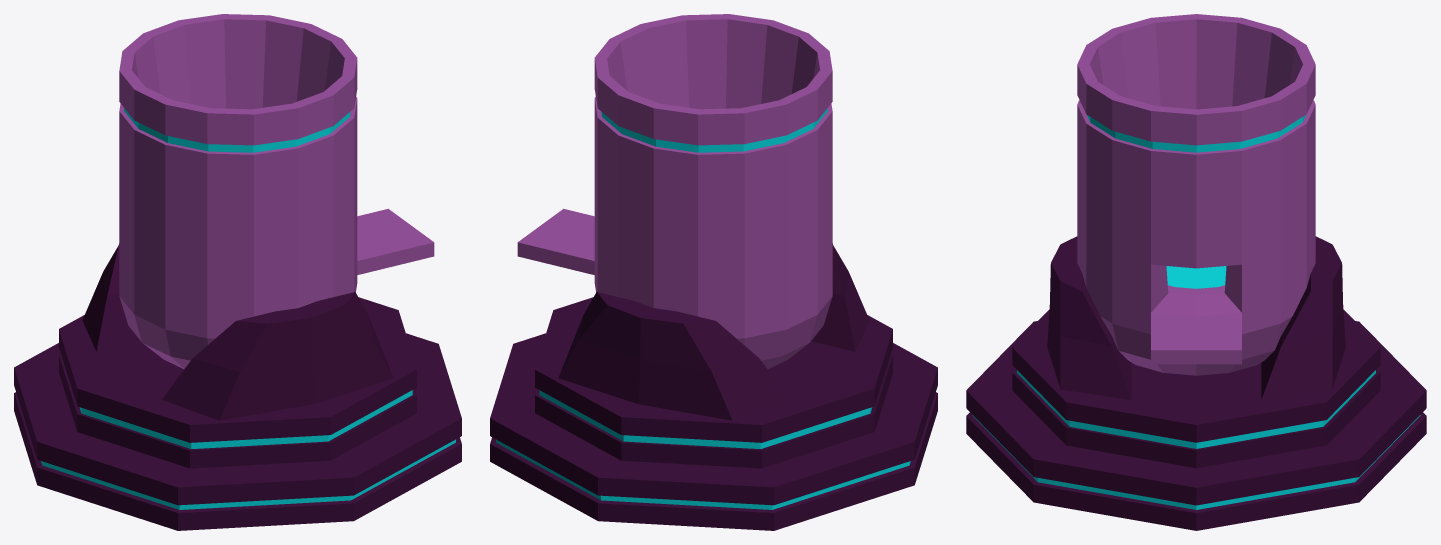
Rendered from Cannon.fbx.
3 renders of one model, left to right at view 1: azimuth 30°, elevation 25°; view 2: azimuth 150°, elevation 25°; view 3: azimuth 270°, elevation 25°, orthographic.
Parts seen in each view (by area): view 1: Cannon_Cannon, Cannon_Base2, Cannon_Base1; view 2: Cannon_Cannon, Cannon_Base2, Cannon_Base1; view 3: Cannon_Cannon, Cannon_Base2, Cannon_Base1.
Boxes of the visible parts, x1,y1,x2,y2 form: Cannon_Cannon: [119, 14, 434, 369]; Cannon_Base2: [59, 243, 416, 468]; Cannon_Base1: [14, 333, 461, 530]; Cannon_Cannon: [517, 14, 832, 369]; Cannon_Base2: [535, 243, 892, 468]; Cannon_Base1: [490, 333, 937, 530]; Cannon_Cannon: [1077, 14, 1315, 375]; Cannon_Base2: [1012, 236, 1380, 468]; Cannon_Base1: [966, 321, 1426, 530].
Size of the model in its own units: 386 by 342 by 386.
